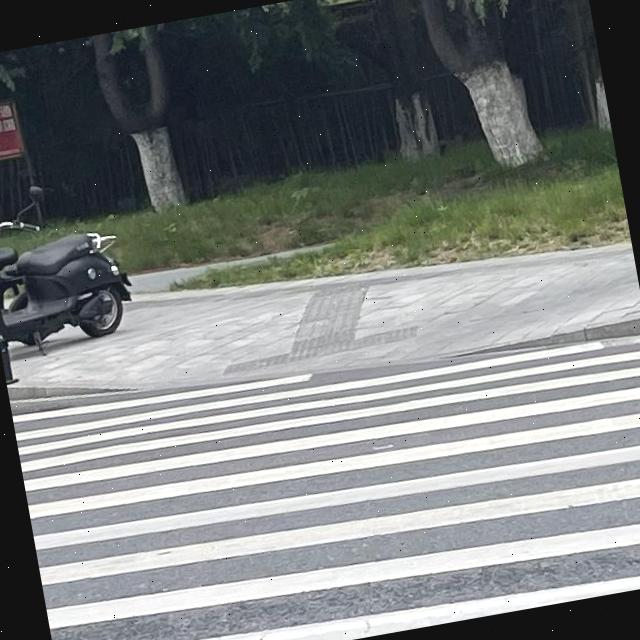curb: (442, 317, 640, 357), (7, 385, 215, 414)
